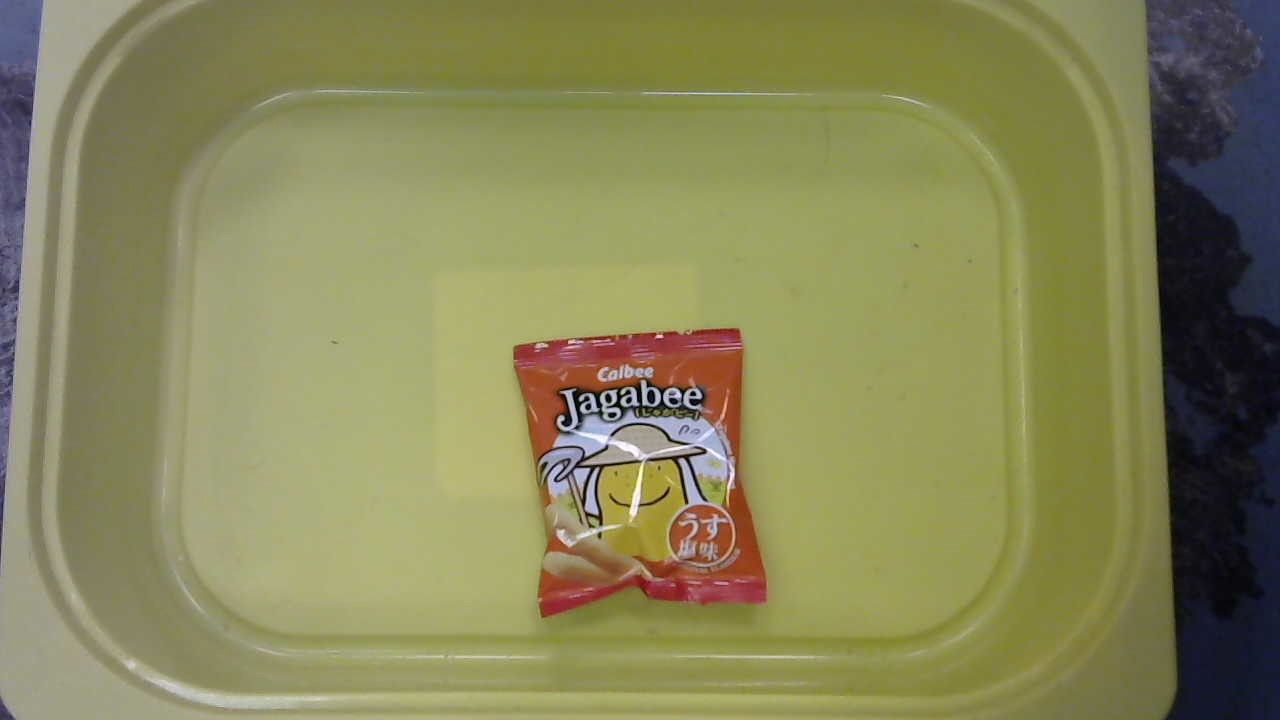JagabeeFarmer: (502, 325, 780, 621)
